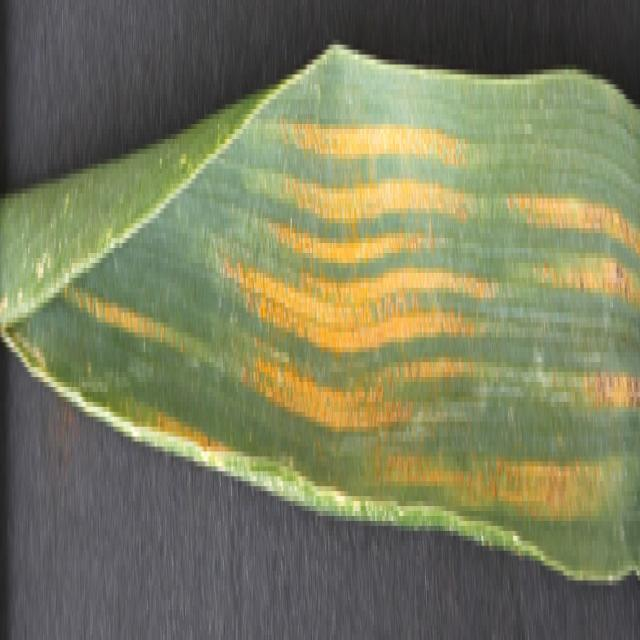leaf rust: (219, 119, 639, 566)
